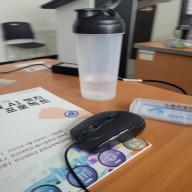Mouse: (69, 110, 148, 155)
